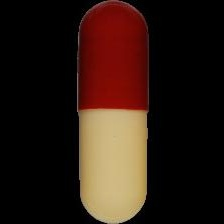21695-656: (0, 0, 224, 224)
